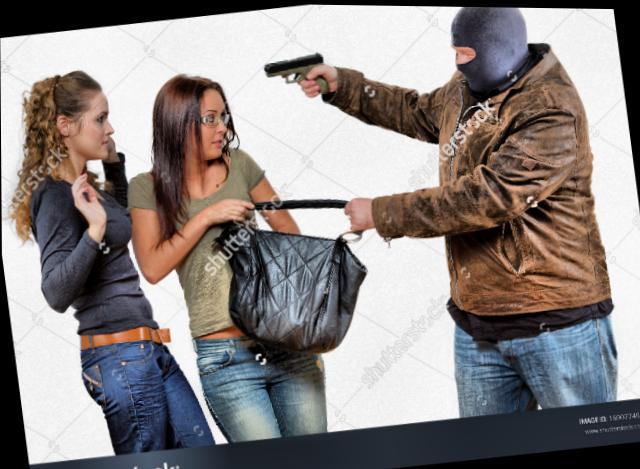pistol: (260, 48, 334, 98)
